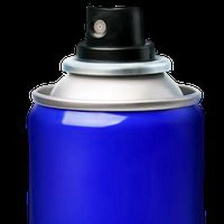aerosol_cans: (19, 0, 215, 222)
